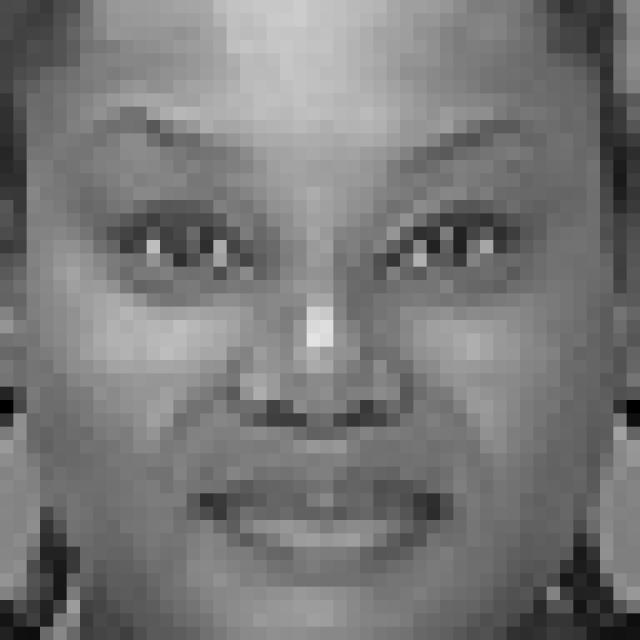neutral: (94, 111, 544, 575)
